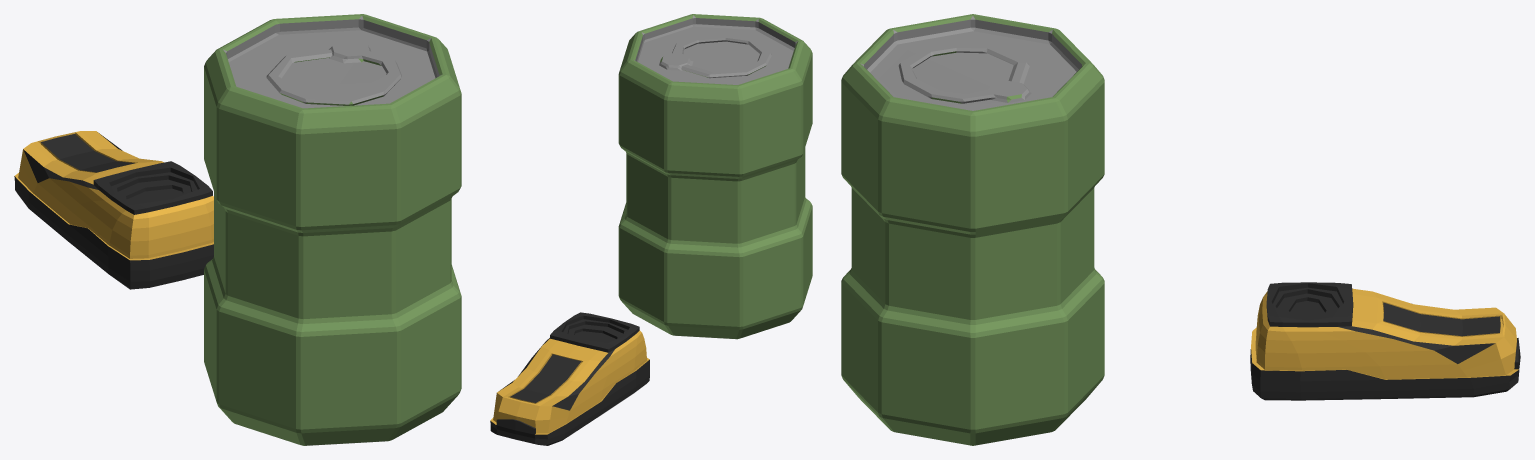
The model's file is krosovok.fbx.
3 renders of one model, left to right at view 1: azimuth 30°, elevation 25°; view 2: azimuth 150°, elevation 25°; view 3: azimuth 270°, elevation 25°, orthographic. The views are drawn at different scales.
Parts seen in each view (by area): view 1: Cylinder, Cube; view 2: Cylinder, Cube; view 3: Cylinder, Cube.
Boxes of the visible parts, left/top/right/bottom form: Cylinder: left=204, top=14, right=461, bottom=445; Cube: left=14, top=131, right=213, bottom=289; Cylinder: left=618, top=14, right=812, bottom=339; Cube: left=490, top=312, right=649, bottom=445; Cylinder: left=841, top=14, right=1104, bottom=445; Cube: left=1250, top=282, right=1520, bottom=400.
Size of the model in its own units: 198 by 279 by 512.
